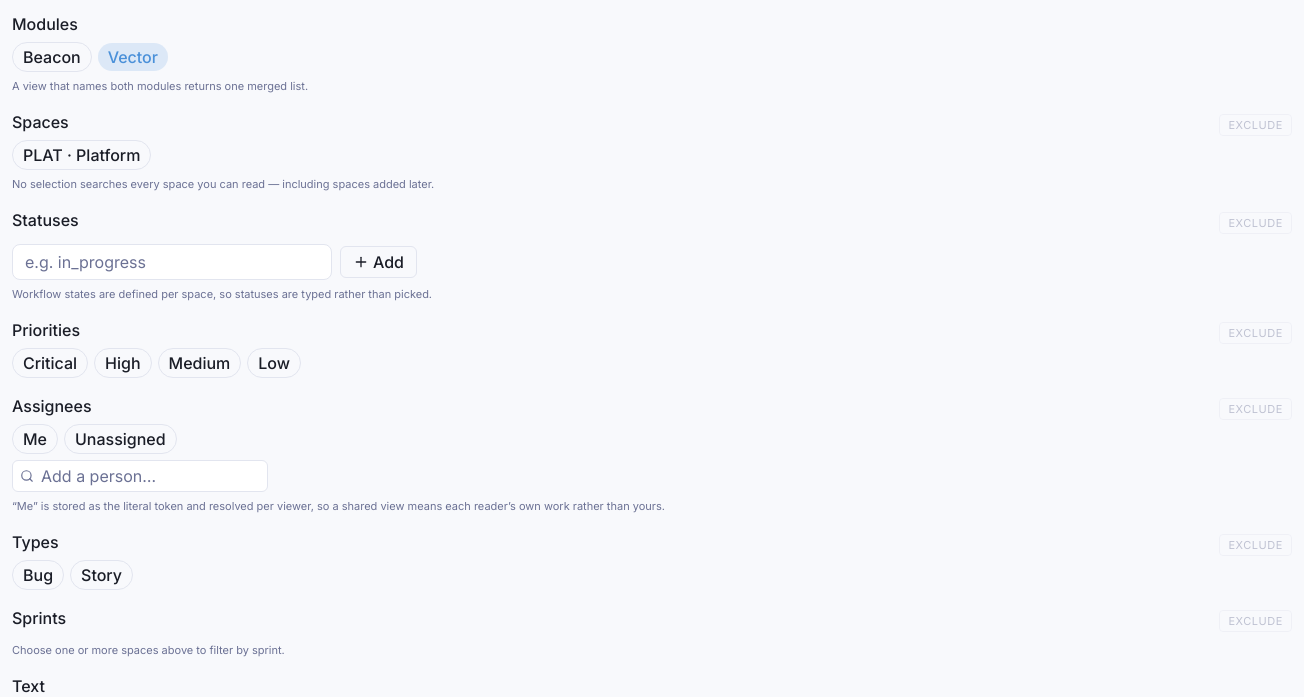
Test: QueryFilterBuilder — the vector-only fields › restores the controls when Beacon is removed again
This screenshot has width=1304, height=697.
What coordinates should you click on to do the following:
click the button "Beacon"
I would click on:
 (52, 57)
Its box is [12,42,92,72].
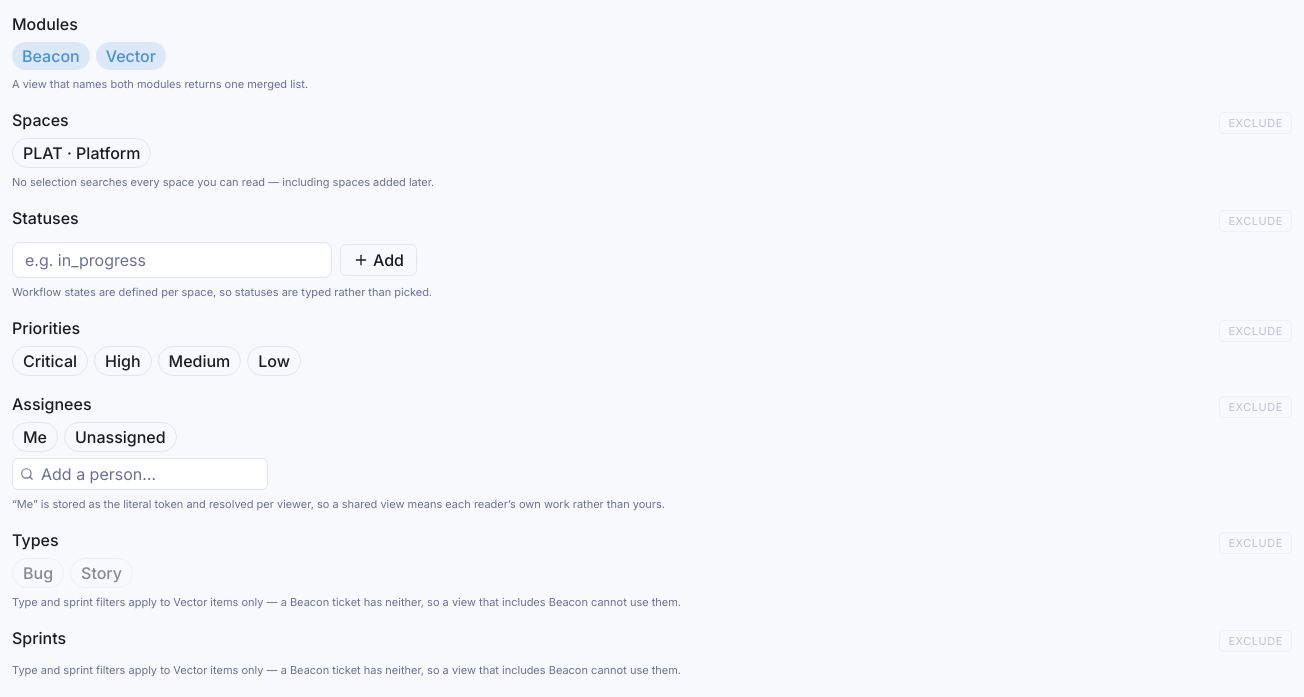
expect the text with test id "view-kinds-reason" is shown: met, box [12,595,681,609]
What coordinates should you click on to do the following:
click the button "Beacon"
I would click on:
 (51, 56)
Its box is [12,42,90,70].
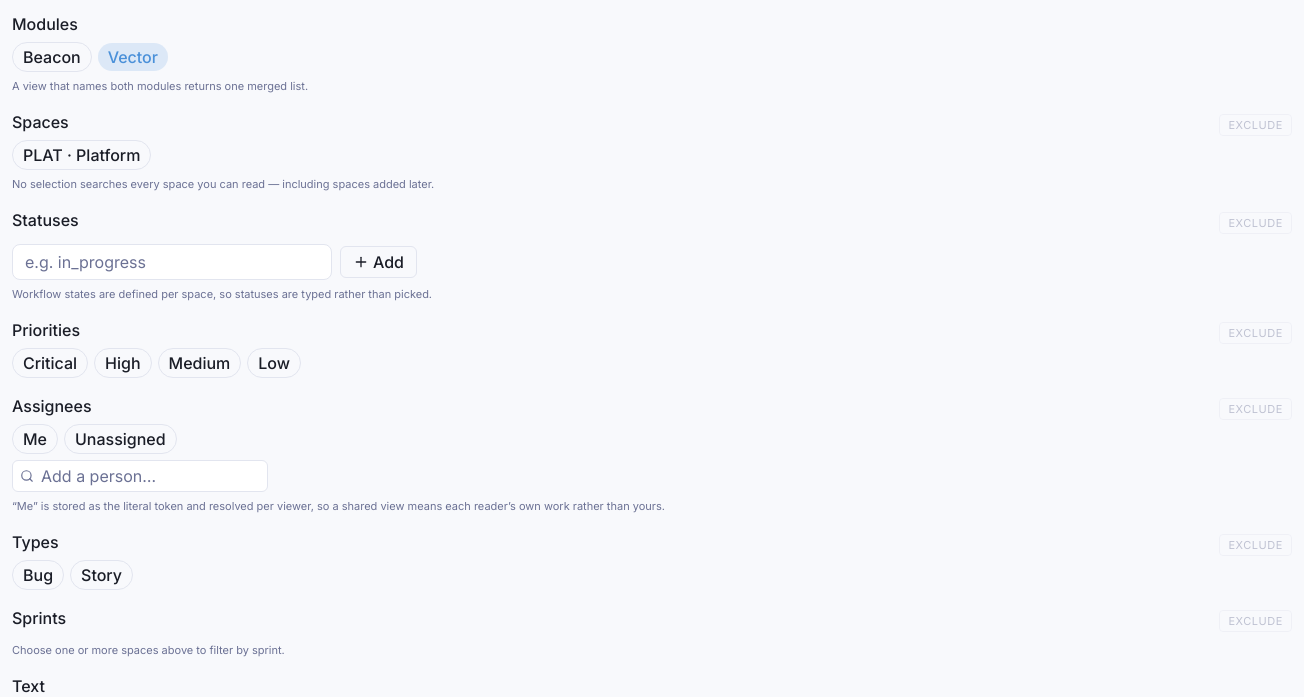
expect the text with test id "view-kinds-reason" is gone: met
expect the button "Bug" is enabled: met, box [12,560,64,590]
